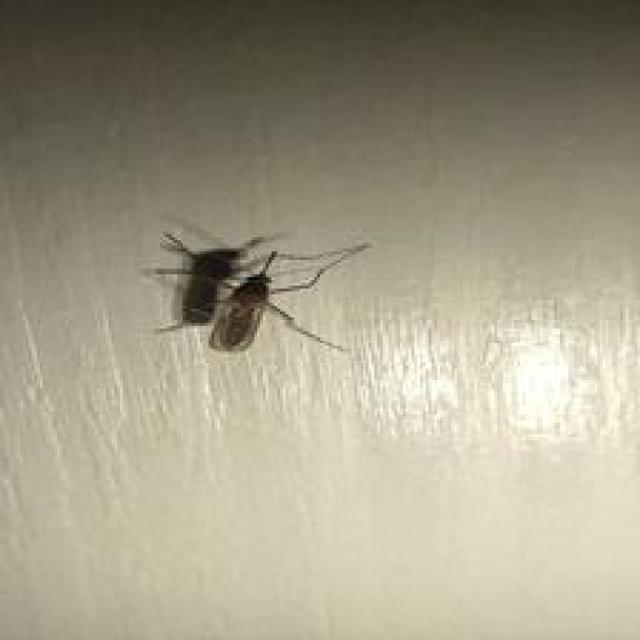Culex: (143, 221, 371, 356)
